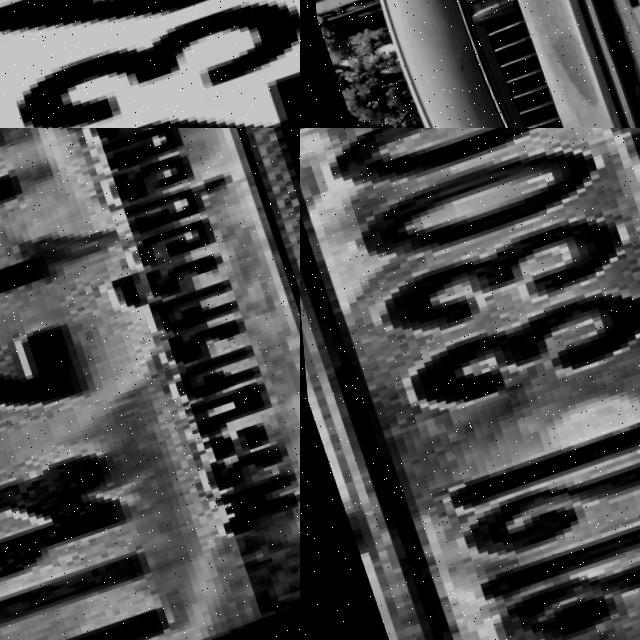license-plate: (300, 128, 640, 640), (0, 128, 300, 640), (0, 0, 300, 128)
